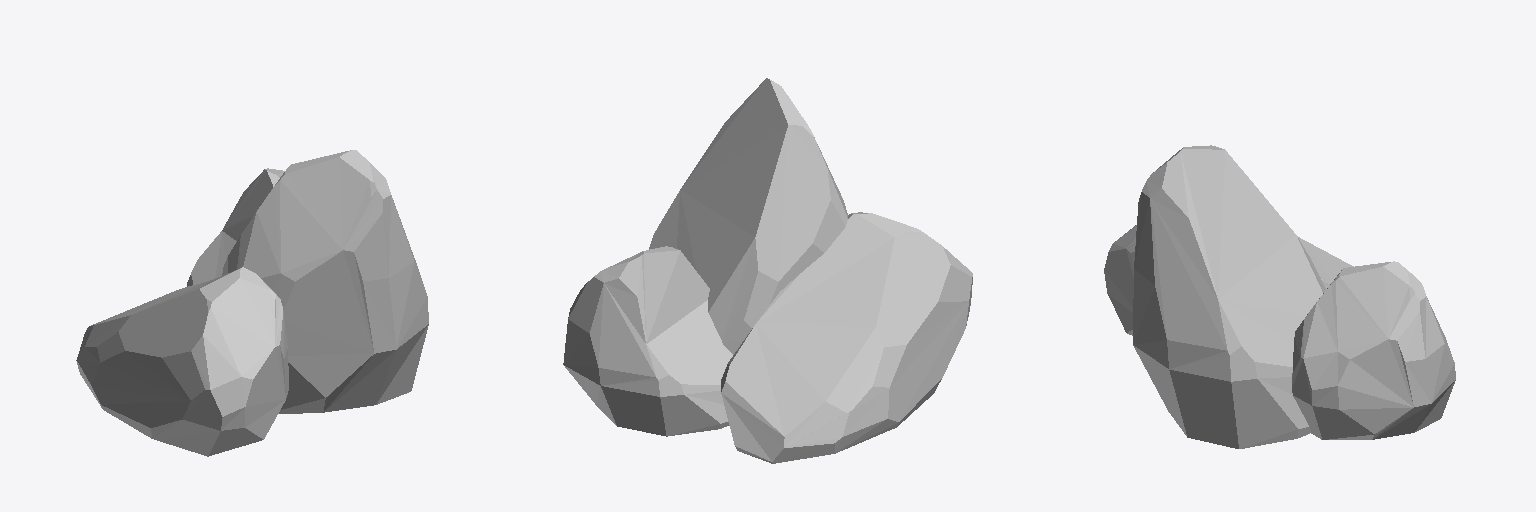
The model's file is Rocks_2.obj.
3 views of the same model, side by side, from view 1: azimuth 30°, elevation 25°; view 2: azimuth 150°, elevation 25°; view 3: azimuth 270°, elevation 25° (orthographic).
Parts seen in each view (by area): view 1: Rocks_2; view 2: Rocks_2; view 3: Rocks_2.
Boxes of the visible parts, x1=… form: Rocks_2: x1=76, y1=150, x2=428, y2=456; Rocks_2: x1=563, y1=78, x2=972, y2=463; Rocks_2: x1=1104, y1=145, x2=1455, y2=448.
Bounding box in the file's own units: 2.24 × 1.95 × 2.39.